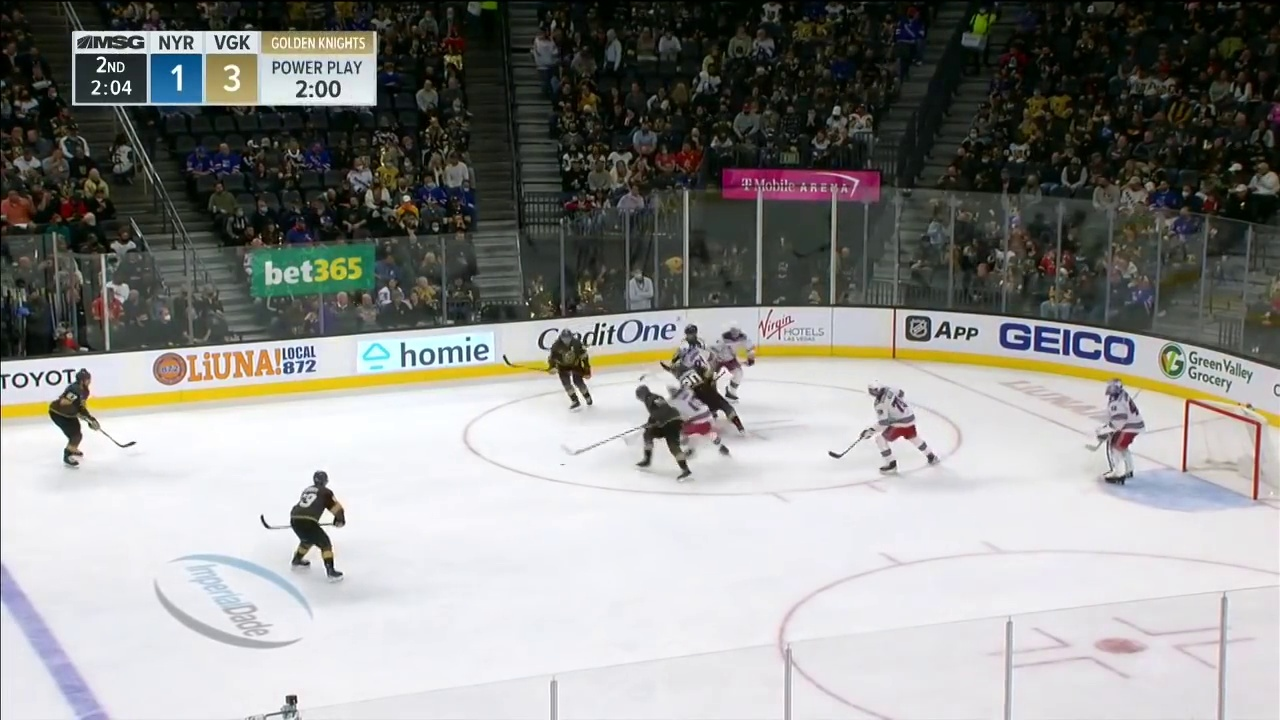hockeyplayer: (861, 379, 939, 474), (290, 471, 346, 582), (634, 384, 693, 483), (1096, 378, 1145, 485), (49, 370, 101, 470), (666, 379, 730, 458), (675, 364, 745, 435), (708, 323, 756, 404), (547, 329, 593, 412), (678, 340, 718, 420)
